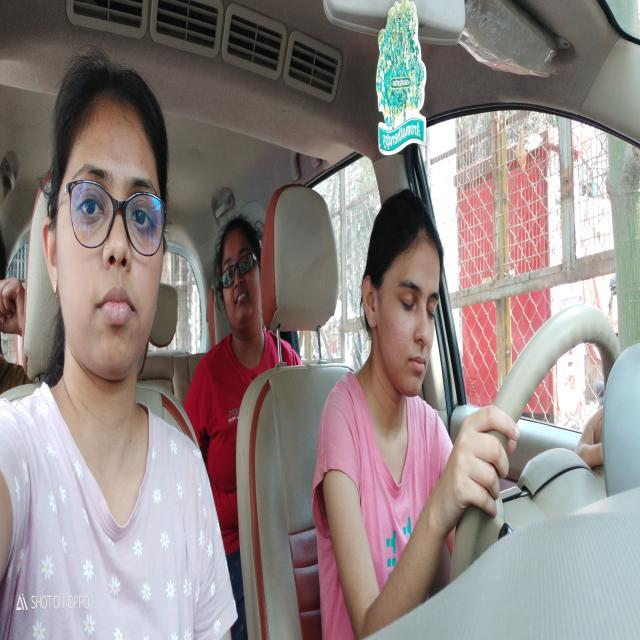drowsy: (362, 196, 442, 389)
person: (46, 81, 170, 375), (213, 225, 269, 335)
